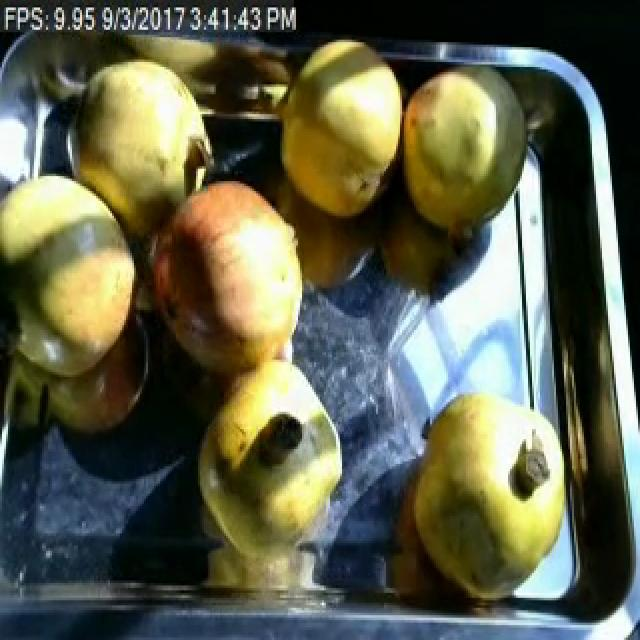fruit: (126, 159, 330, 404), (402, 382, 576, 608), (50, 42, 228, 256), (190, 337, 354, 563), (0, 154, 150, 394), (398, 62, 552, 258), (264, 32, 406, 236)
